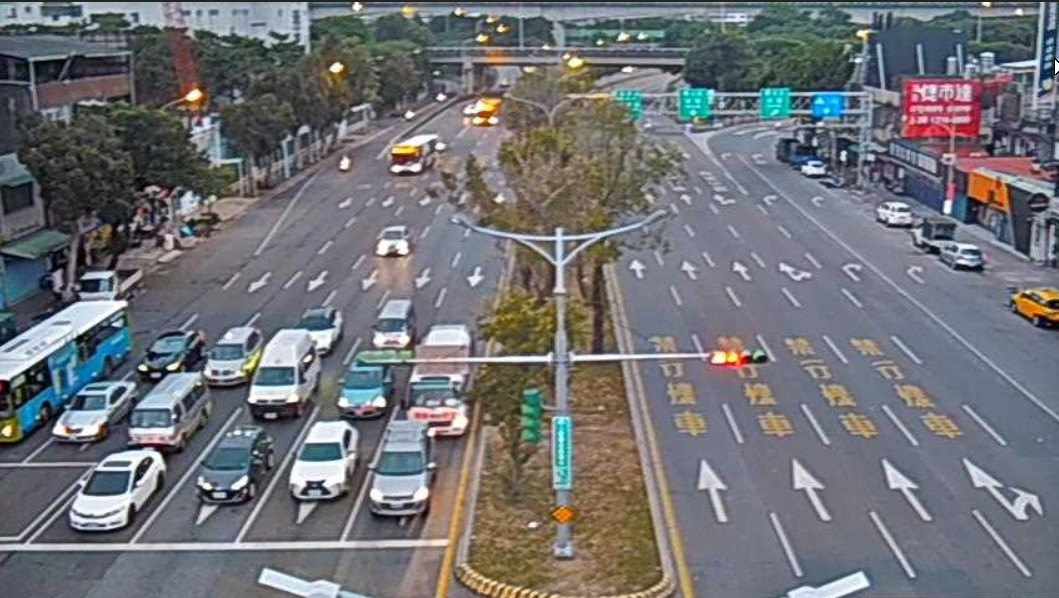Bus: (2, 297, 129, 448), (389, 135, 436, 175)
Business Passenger Car: (1006, 275, 1059, 339)
Private Passenger Car: (65, 447, 165, 533), (253, 318, 320, 426), (186, 418, 263, 508), (373, 410, 427, 522), (284, 418, 353, 504), (131, 375, 206, 451), (206, 318, 267, 398), (47, 378, 115, 446), (135, 320, 194, 391), (335, 349, 388, 420), (296, 302, 344, 349), (371, 214, 414, 265), (933, 235, 986, 275), (374, 292, 412, 345), (871, 192, 914, 237)
